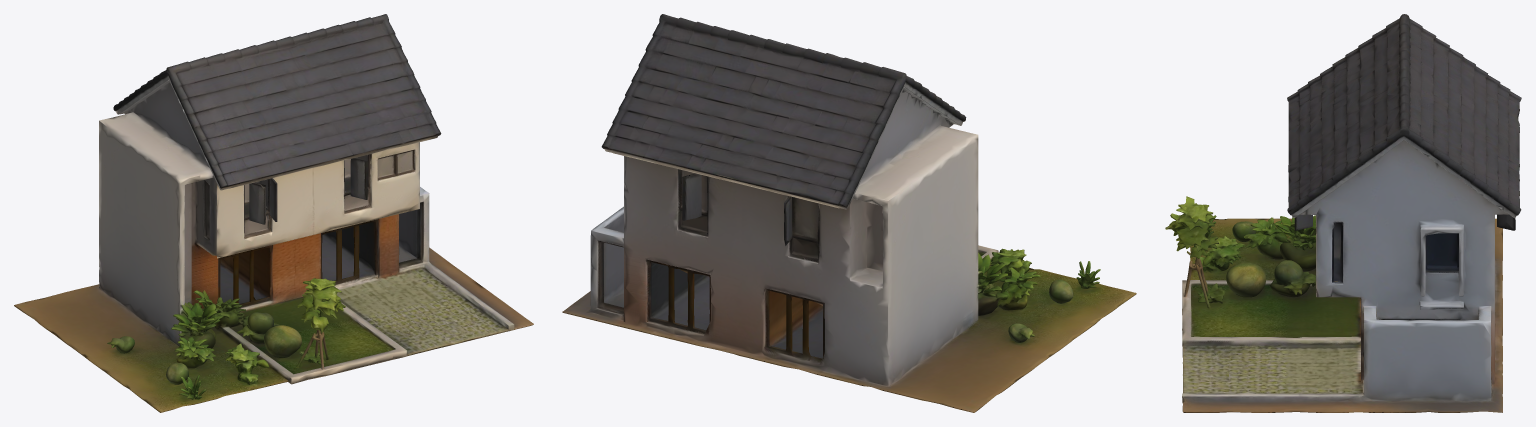
Rendered from rumah_glen.glb.
3 renders of one model, left to right at view 1: azimuth 30°, elevation 25°; view 2: azimuth 150°, elevation 25°; view 3: azimuth 270°, elevation 25°, orthographic. The views are drawn at different scales.
Visible parts, largest first — view 1: tripo_node_5843eb3b-a6db-4705-9252-c123da2f80e6; view 2: tripo_node_5843eb3b-a6db-4705-9252-c123da2f80e6; view 3: tripo_node_5843eb3b-a6db-4705-9252-c123da2f80e6.
Boxes of the visible parts, left/top/right/bottom form: tripo_node_5843eb3b-a6db-4705-9252-c123da2f80e6: left=14, top=14, right=533, bottom=412; tripo_node_5843eb3b-a6db-4705-9252-c123da2f80e6: left=562, top=14, right=1136, bottom=412; tripo_node_5843eb3b-a6db-4705-9252-c123da2f80e6: left=1165, top=14, right=1521, bottom=412.
Size of the model in its own units: 1 by 0.6387 by 0.7787.
1 material, 1 textured.
